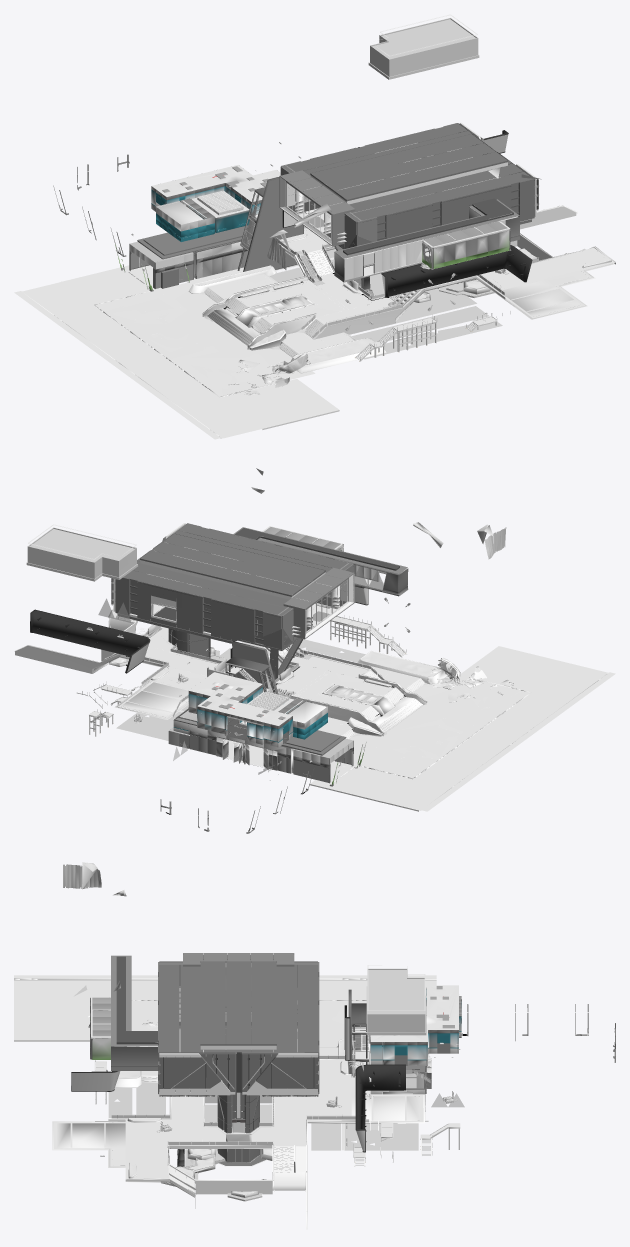
File: cell_83_56.fbx
3 views of the same model, one above another, from view 1: azimuth 30°, elevation 25°; view 2: azimuth 150°, elevation 25°; view 3: azimuth 270°, elevation 25° (orthographic). The views are drawn at different scales.
Visible parts, largest first — view 1: SM_I_RoadFacility_Ground_H_20.mo, SM_H_Building_FutureTech_HBoss_01_ExterWall_01C.mo, SM_H_Building_FutureTech_HTerrace_01.mo.001, SM_H_Building_FutureTech_HTerrace_02.mo, SM_H_Building_FutureTech_HOrange_01_InterWall_01.mo, SM_H_Building_FutureTech_HStairs_04_InterWall_01E.mo, SM_H_Building_FutureTech_HLight_01_ExterWall_05.mo, SM_I_RoadFacility_Ground_FutureTech_H_01B.mo, SM_H_Building_FutureTech_HOrange_01_InterWall_11.mo, SM_H_Building_FutureTech_HScreen_01.mo.001, SM_H_Building_FutureTech_HOrange_01_InterWall_07.mo, SM_H_Building_FutureTech_HStairs_04_ExterWall_01C.mo.001 (+7 smaller); view 2: SM_H_Building_FutureTech_HBoss_01_ExterWall_01C.mo, SM_I_RoadFacility_Ground_H_20.mo, SM_H_Building_FutureTech_HTerrace_01.mo.001, SM_H_Building_FutureTech_HTerrace_02.mo, SM_H_Building_FutureTech_HOrange_01_InterWall_01.mo, SM_H_Building_FutureTech_HOrange_01_InterWall_07.mo, SM_H_Building_FutureTech_HLight_01_ExterWall_05.mo, SM_H_Building_FutureTech_HScreen_01.mo, SM_H_Building_FutureTech_HStairs_04_ExterWall_01C.mo.001, SM_H_Building_FutureTech_HOrange_01_InterWall_11.mo, SM_H_Building_FutureTech_HStairs_03_ExterWall_01.mo.001, SM_H_Building_FutureTech_HStairs_04_InterWall_01E.mo (+8 smaller); view 3: SM_H_Building_FutureTech_HBoss_01_ExterWall_01C.mo, SM_H_Building_FutureTech_HTerrace_02.mo, SM_I_RoadFacility_Ground_H_20.mo, SM_H_Building_FutureTech_HOrange_01_InterWall_07.mo, SM_H_Building_FutureTech_HLight_01_ExterWall_05.mo, SM_H_Building_FutureTech_HStairs_04_ExterWall_01C.mo.001, SM_I_RoadFacility_Ground_FutureTech_H_01.mo, SM_H_Building_FutureTech_HScreen_01.mo, SM_I_RoadFacility_Ground_FutureTech_H_01B.mo, SM_H_Building_FutureTech_HStairs_04_InterWall_01E.mo, SM_H_Building_FutureTech_HTerrace_03.mo, SM_H_Building_FutureTech_HStairs_03_ExterWall_01.mo.001 (+4 smaller).
Boxes of the visible parts, x1=… form: SM_I_RoadFacility_Ground_H_20.mo: x1=14, y1=263, x2=339, y2=439; SM_H_Building_FutureTech_HBoss_01_ExterWall_01C.mo: x1=279, y1=122, x2=538, y2=296; SM_H_Building_FutureTech_HTerrace_01.mo.001: x1=188, y1=265, x2=392, y2=373; SM_H_Building_FutureTech_HTerrace_02.mo: x1=279, y1=205, x2=615, y2=339; SM_H_Building_FutureTech_HOrange_01_InterWall_01.mo: x1=129, y1=224, x2=306, y2=288; SM_H_Building_FutureTech_HStairs_04_InterWall_01E.mo: x1=336, y1=205, x2=517, y2=280; SM_H_Building_FutureTech_HLight_01_ExterWall_05.mo: x1=368, y1=14, x2=479, y2=79; SM_I_RoadFacility_Ground_FutureTech_H_01B.mo: x1=352, y1=288, x2=502, y2=359; SM_H_Building_FutureTech_HOrange_01_InterWall_11.mo: x1=156, y1=191, x2=249, y2=241; SM_H_Building_FutureTech_HScreen_01.mo.001: x1=381, y1=245, x2=532, y2=297; SM_H_Building_FutureTech_HOrange_01_InterWall_07.mo: x1=151, y1=165, x2=280, y2=224; SM_H_Building_FutureTech_HStairs_04_ExterWall_01C.mo.001: x1=334, y1=198, x2=519, y2=282; SM_H_Building_FutureTech_HBoss_01_ExterWall_01C.mo: x1=111, y1=523, x2=354, y2=680; SM_I_RoadFacility_Ground_H_20.mo: x1=309, y1=646, x2=615, y2=811; SM_H_Building_FutureTech_HTerrace_01.mo.001: x1=276, y1=651, x2=447, y2=739; SM_H_Building_FutureTech_HTerrace_02.mo: x1=14, y1=607, x2=380, y2=719; SM_H_Building_FutureTech_HOrange_01_InterWall_01.mo: x1=168, y1=708, x2=353, y2=783; SM_H_Building_FutureTech_HOrange_01_InterWall_07.mo: x1=188, y1=672, x2=293, y2=747; SM_H_Building_FutureTech_HLight_01_ExterWall_05.mo: x1=26, y1=524, x2=137, y2=581; SM_H_Building_FutureTech_HScreen_01.mo: x1=30, y1=609, x2=150, y2=673; SM_H_Building_FutureTech_HStairs_04_ExterWall_01C.mo.001: x1=227, y1=527, x2=408, y2=596; SM_H_Building_FutureTech_HOrange_01_InterWall_11.mo: x1=240, y1=691, x2=327, y2=739; SM_H_Building_FutureTech_HStairs_03_ExterWall_01.mo.001: x1=225, y1=641, x2=278, y2=694; SM_H_Building_FutureTech_HStairs_04_InterWall_01E.mo: x1=260, y1=526, x2=406, y2=589; SM_H_Building_FutureTech_HBoss_01_ExterWall_01C.mo: x1=158, y1=953, x2=319, y2=1166; SM_H_Building_FutureTech_HTerrace_02.mo: x1=52, y1=1059, x2=424, y2=1229; SM_I_RoadFacility_Ground_H_20.mo: x1=14, y1=975, x2=436, y2=1094; SM_H_Building_FutureTech_HOrange_01_InterWall_07.mo: x1=370, y1=985, x2=461, y2=1065; SM_H_Building_FutureTech_HLight_01_ExterWall_05.mo: x1=366, y1=965, x2=426, y2=1035; SM_H_Building_FutureTech_HStairs_04_ExterWall_01C.mo.001: x1=111, y1=955, x2=157, y2=1070; SM_I_RoadFacility_Ground_FutureTech_H_01.mo: x1=241, y1=1104, x2=418, y2=1150; SM_H_Building_FutureTech_HScreen_01.mo: x1=355, y1=1064, x2=405, y2=1152; SM_I_RoadFacility_Ground_FutureTech_H_01B.mo: x1=108, y1=1083, x2=235, y2=1127; SM_H_Building_FutureTech_HStairs_04_InterWall_01E.mo: x1=90, y1=989, x2=157, y2=1059; SM_H_Building_FutureTech_HTerrace_03.mo: x1=161, y1=1122, x2=272, y2=1201; SM_H_Building_FutureTech_HStairs_03_ExterWall_01.mo.001: x1=348, y1=989, x2=369, y2=1077.
Size of the model in its own units: 133 by 48.74 by 131.
